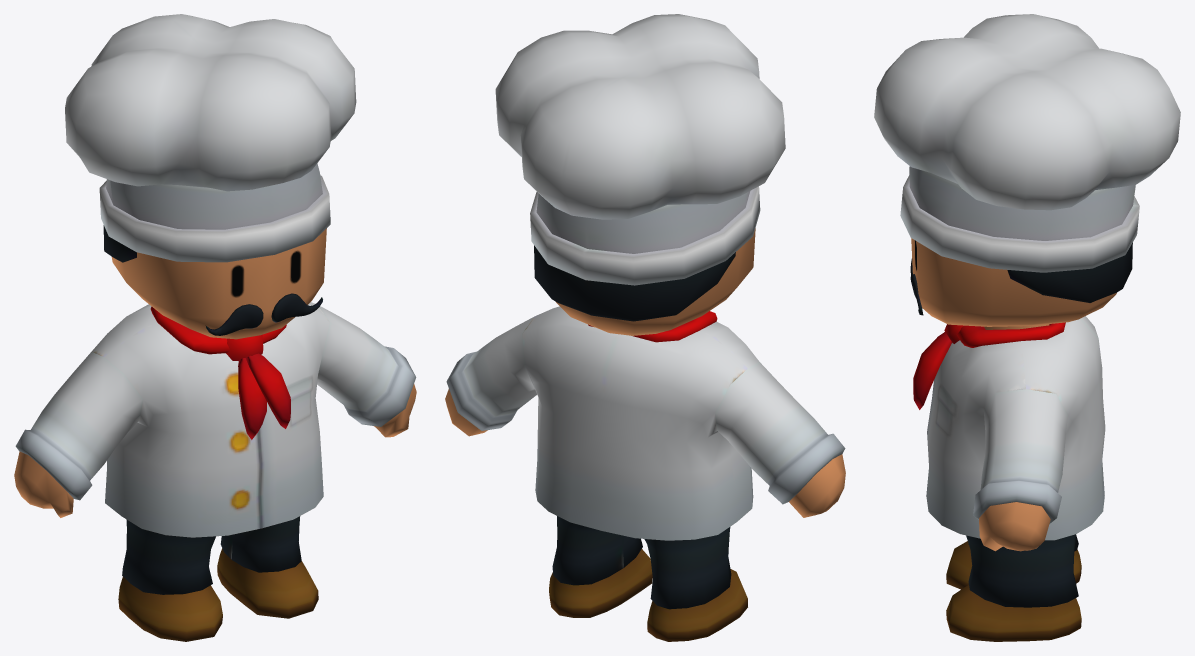
File: chef.glb
The picture shows the model from 3 angles, left to right: view 1: azimuth 30°, elevation 25°; view 2: azimuth 150°, elevation 25°; view 3: azimuth 270°, elevation 25°; orthographic projection.
Visible parts, largest first — view 1: Object_2; view 2: Object_2; view 3: Object_2.
Boxes of the visible parts, box(x1,y1,x2,y2) form: Object_2: box(14, 14, 416, 641); Object_2: box(445, 14, 845, 641); Object_2: box(874, 14, 1180, 641).
Bounding box in the file's own units: 1.4 × 1.93 × 0.9662.
Materials: 1 (1 with a texture image).
